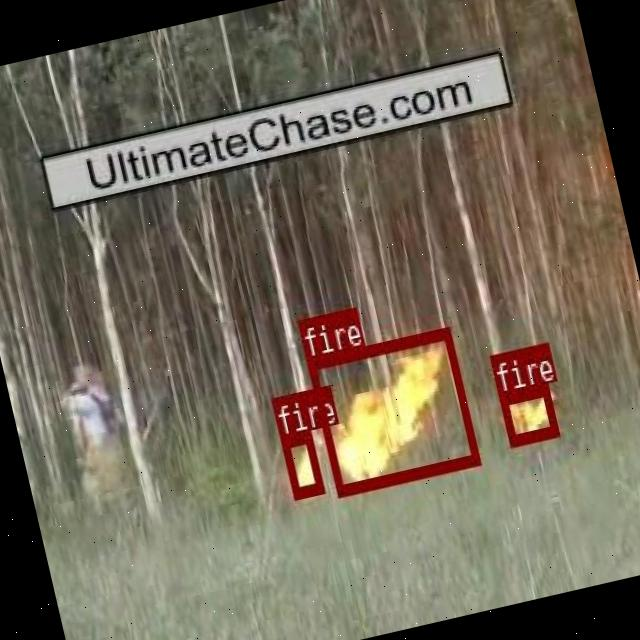fire: (306, 326, 478, 494), (498, 381, 558, 444), (279, 428, 323, 496)
